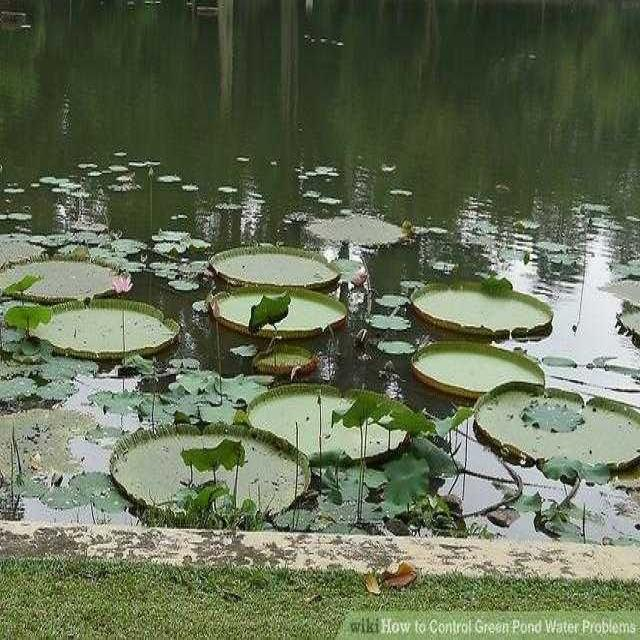Ponds: (1, 5, 640, 548)
